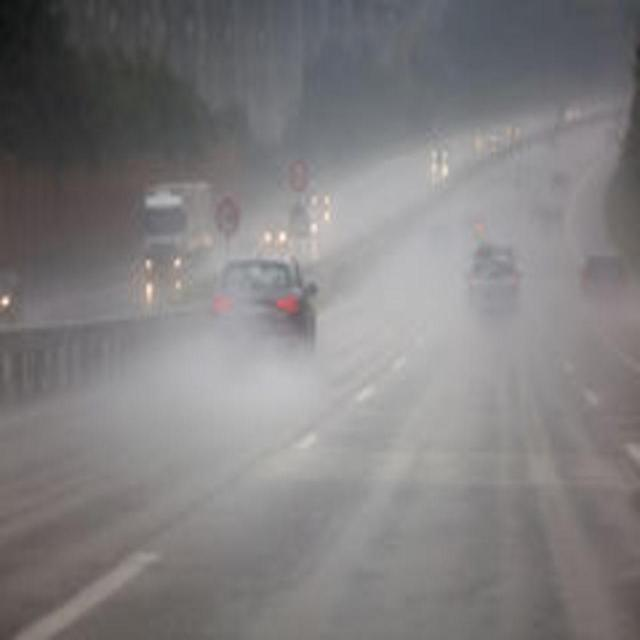Car: (215, 259, 293, 355), (464, 254, 519, 313), (583, 252, 640, 296), (0, 273, 22, 331)
Van: (147, 194, 207, 288)
